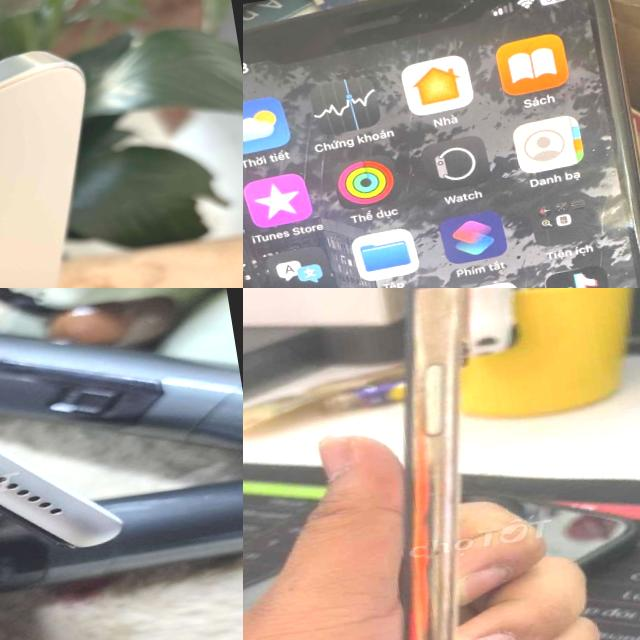physical_damage: (409, 0, 630, 82)
